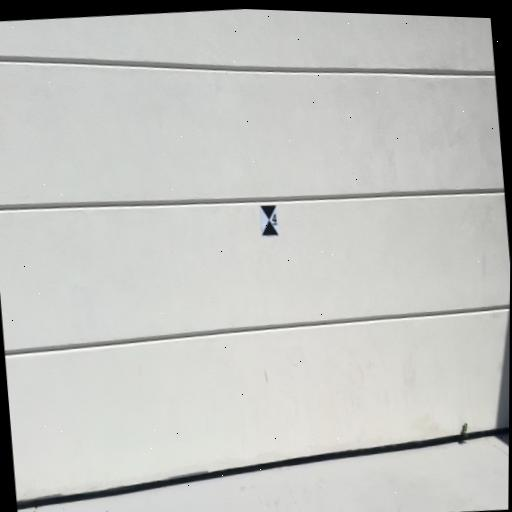target4: (259, 204, 280, 237)
